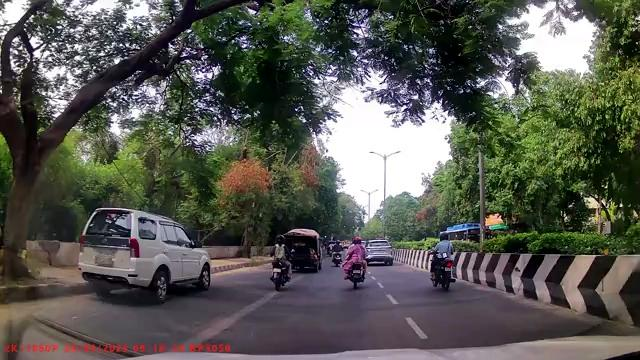motorcycle_with_helmet: (427, 231, 456, 291), (269, 233, 293, 291)
passenger_with_helmet: (342, 235, 369, 293)
